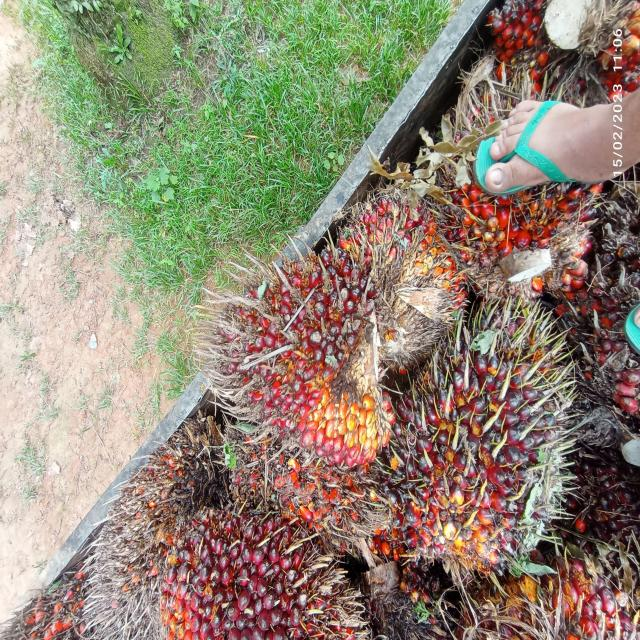fraksi 1: (378, 266, 566, 588), (152, 517, 347, 640)
fraksi 3: (138, 208, 436, 462)
